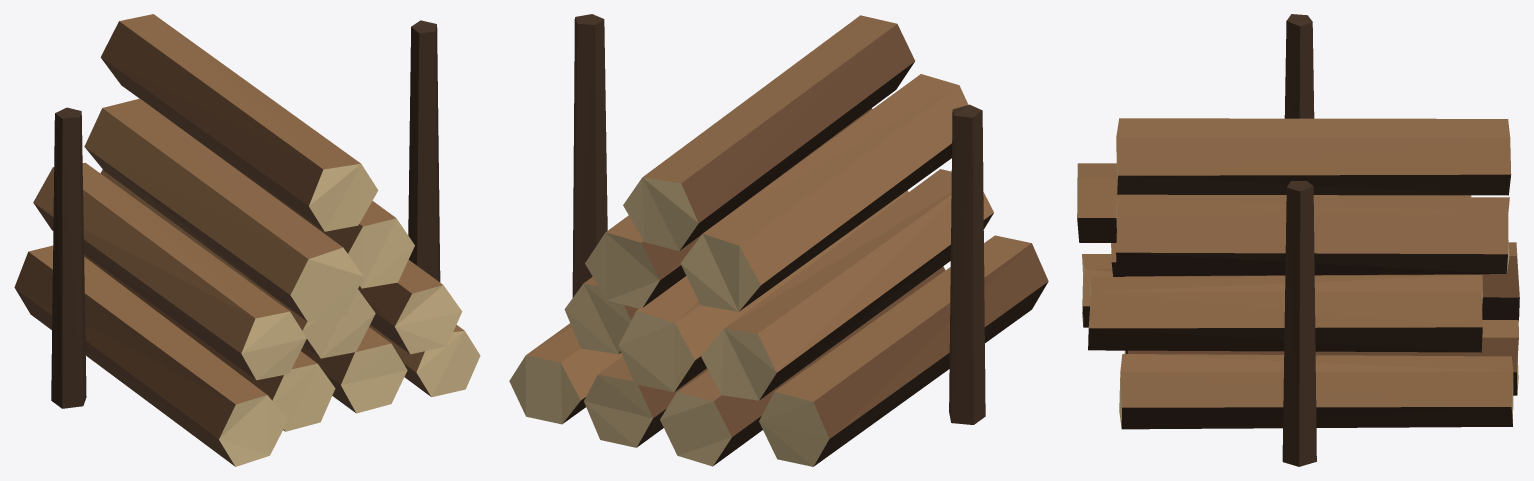
File: SM_Woodpile.fbx
3 renders of one model, left to right at view 1: azimuth 30°, elevation 25°; view 2: azimuth 150°, elevation 25°; view 3: azimuth 270°, elevation 25°, orthographic. The views are drawn at different scales.
Parts seen in each view (by area): view 1: SM_Woodpile; view 2: SM_Woodpile; view 3: SM_Woodpile.
Part boxes in pixels (left/top/right/bottom): SM_Woodpile: left=14, top=14, right=480, bottom=466; SM_Woodpile: left=509, top=14, right=1048, bottom=466; SM_Woodpile: left=1077, top=14, right=1519, bottom=466.
Size of the model in its own units: 1.19 by 0.8539 by 1.24.
